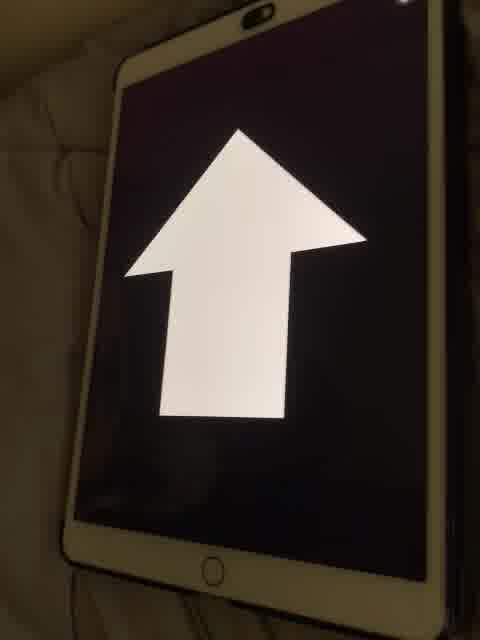up: (121, 124, 369, 423)
